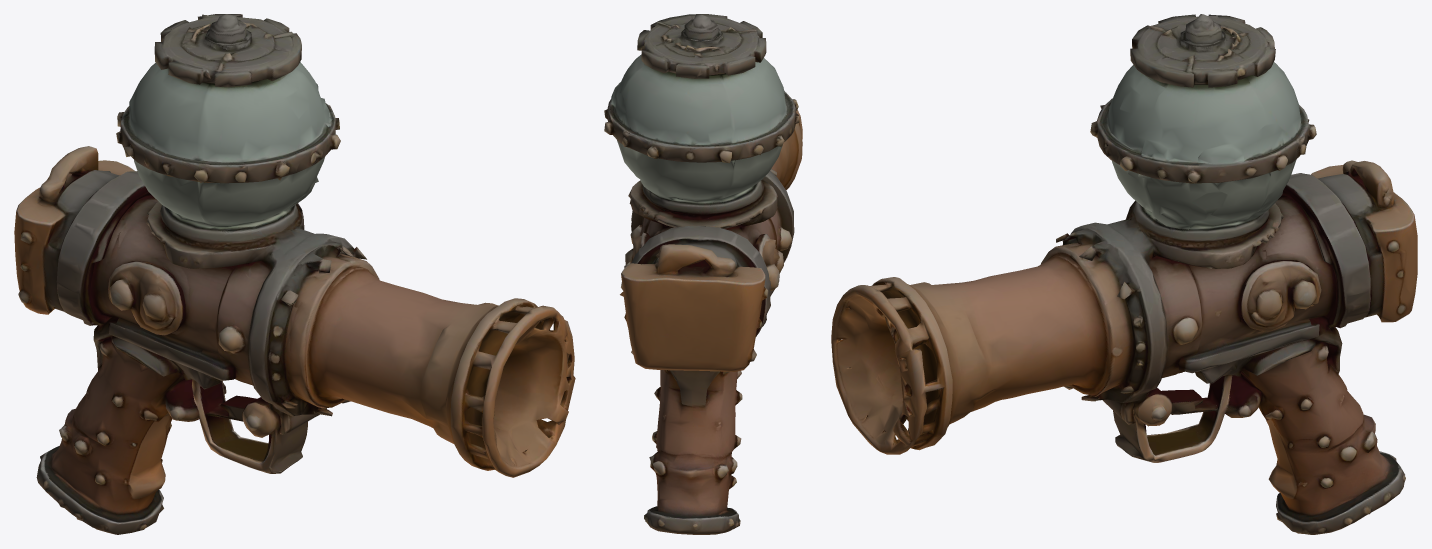
Rendered from water.glb.
3 views of the same model, side by side, from view 1: azimuth 30°, elevation 25°; view 2: azimuth 150°, elevation 25°; view 3: azimuth 270°, elevation 25° (orthographic). The views are drawn at different scales.
Parts seen in each view (by area): view 1: tripo_node_dccc2363-bea3-4420-b817-1d551113665e; view 2: tripo_node_dccc2363-bea3-4420-b817-1d551113665e; view 3: tripo_node_dccc2363-bea3-4420-b817-1d551113665e.
Part boxes in pixels (x1,y1,x2,y2): tripo_node_dccc2363-bea3-4420-b817-1d551113665e: (14, 14, 575, 534); tripo_node_dccc2363-bea3-4420-b817-1d551113665e: (604, 14, 802, 534); tripo_node_dccc2363-bea3-4420-b817-1d551113665e: (831, 14, 1417, 534).
Size of the model in its own units: 0.2017 by 0.3 by 0.2997.
Materials: 1 (1 with a texture image).
